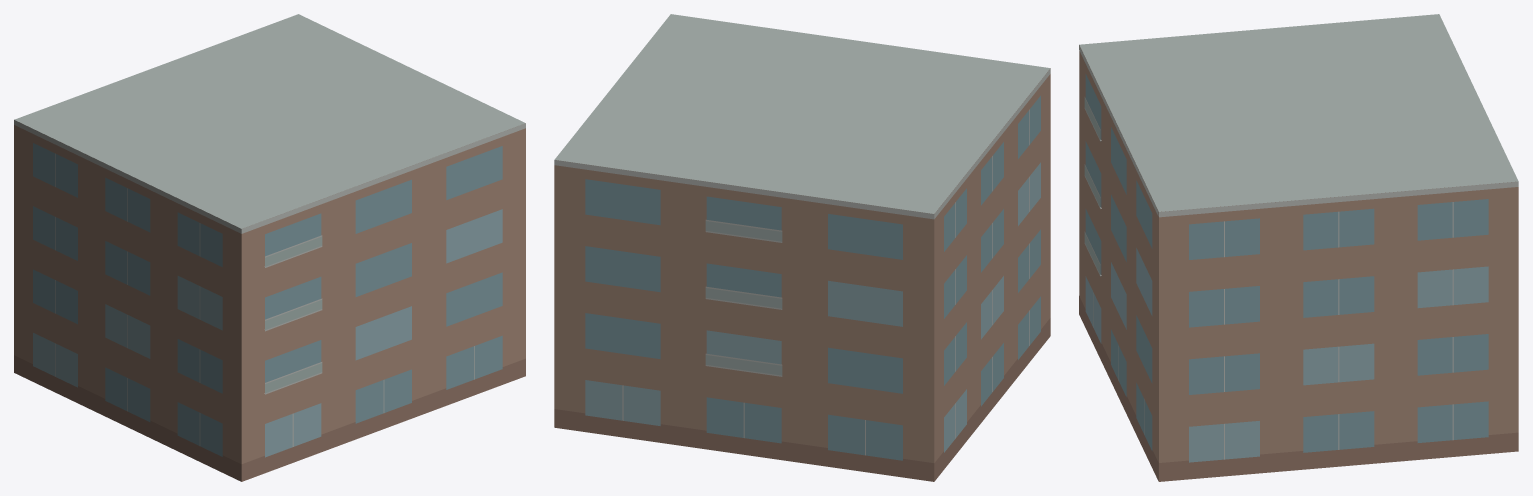
File: residential-d360998e-d4ca-434c-b6c9-5f08cb47ec42.glb
3 views of the same model, side by side, from view 1: azimuth 30°, elevation 25°; view 2: azimuth 150°, elevation 25°; view 3: azimuth 270°, elevation 25° (orthographic). The views are drawn at different scales.
Parts seen in each view (by area): view 1: residential-d360998e-d4ca-434c-b6c9-5f08cb47ec42.tmp; view 2: residential-d360998e-d4ca-434c-b6c9-5f08cb47ec42.tmp; view 3: residential-d360998e-d4ca-434c-b6c9-5f08cb47ec42.tmp.
Part boxes in pixels (x1=…): residential-d360998e-d4ca-434c-b6c9-5f08cb47ec42.tmp: x1=14, y1=14, x2=525, y2=481; residential-d360998e-d4ca-434c-b6c9-5f08cb47ec42.tmp: x1=554, y1=14, x2=1050, y2=481; residential-d360998e-d4ca-434c-b6c9-5f08cb47ec42.tmp: x1=1079, y1=14, x2=1518, y2=481.
Size of the model in its own units: 19.2 by 12.2 by 18.01.
